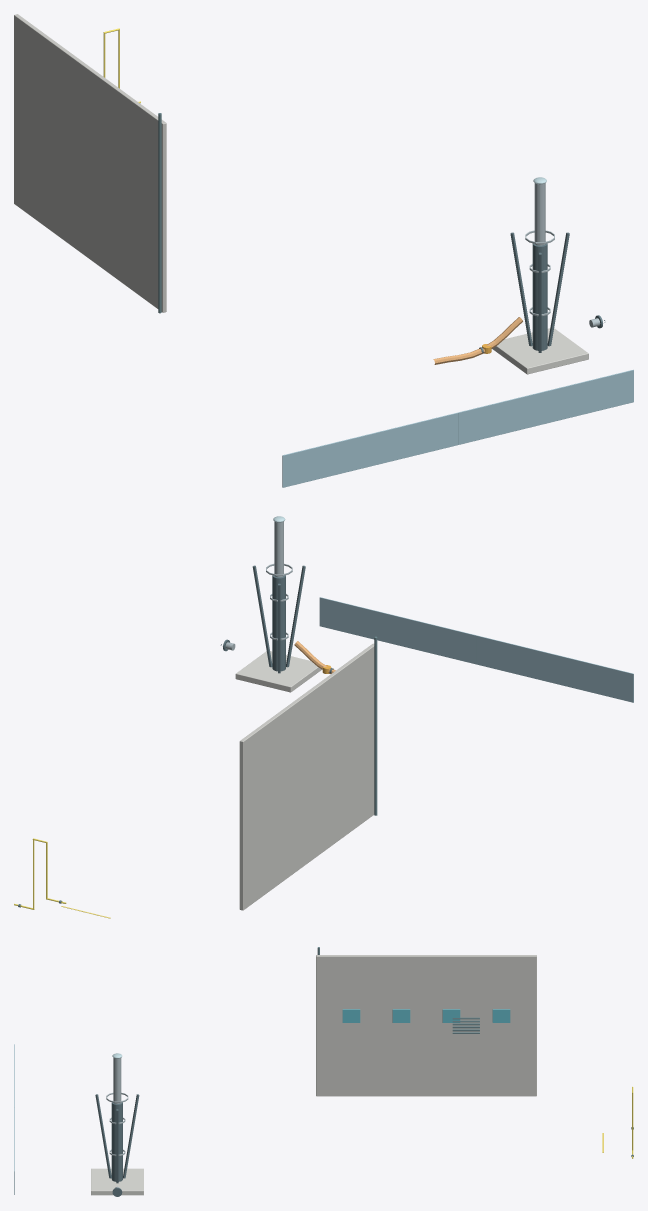
3 renders of one model, top to bottom at view 1: azimuth 30°, elevation 25°; view 2: azimuth 150°, elevation 25°; view 3: azimuth 270°, elevation 25°, orthographic. The views are drawn at different scales.
Visible parts, largest first — view 1: render-batch-8, render-batch-3, render-batch-0, render-batch-6, render-batch-4, render-batch-2; view 2: render-batch-8, render-batch-3, render-batch-0, render-batch-6, render-batch-4, render-batch-2; view 3: render-batch-8, render-batch-0, render-batch-6, render-batch-1, render-batch-4, render-batch-2.
Boxes of the visible parts, left/top/right/bottom form: render-batch-8: left=14, top=14, right=166, bottom=312; render-batch-3: left=282, top=369, right=633, bottom=487; render-batch-0: left=479, top=232, right=605, bottom=352; render-batch-6: left=492, top=328, right=588, bottom=374; render-batch-4: left=525, top=183, right=600, bottom=327; render-batch-2: left=158, top=113, right=161, bottom=313; render-batch-8: left=239, top=643, right=374, bottom=910; render-batch-3: left=319, top=597, right=633, bottom=702; render-batch-0: left=220, top=565, right=333, bottom=673; render-batch-6: left=235, top=651, right=321, bottom=692; render-batch-4: left=225, top=521, right=292, bottom=650; render-batch-2: left=18, top=636, right=377, bottom=907; render-batch-8: left=316, top=955, right=536, bottom=1096; render-batch-0: left=95, top=1094, right=139, bottom=1196; render-batch-6: left=91, top=1168, right=143, bottom=1195; render-batch-1: left=342, top=1009, right=510, bottom=1022; render-batch-4: left=106, top=1058, right=128, bottom=1187; render-batch-2: left=317, top=947, right=633, bottom=1156.
Size of the model in its own units: 22.77 by 11.3 by 42.11.
